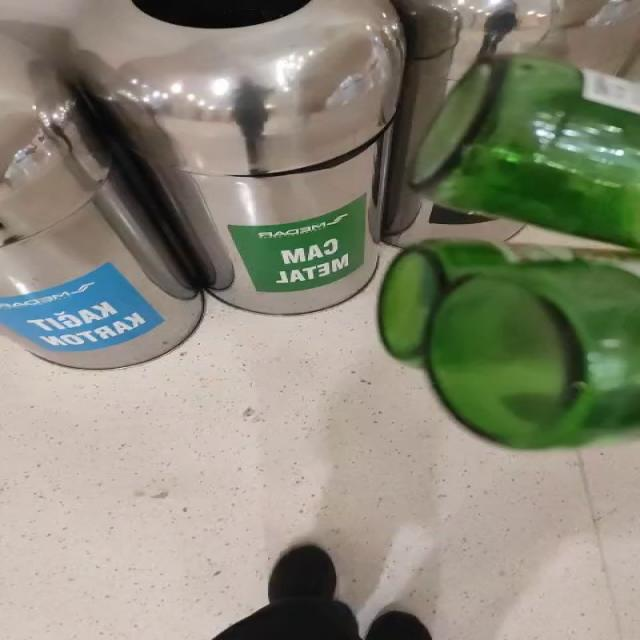bin: (1, 0, 404, 369)
glass: (379, 241, 639, 449), (413, 55, 640, 248)
